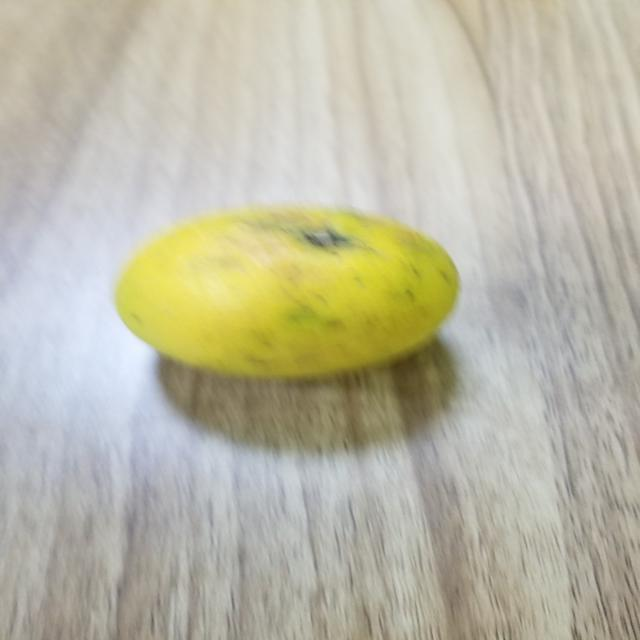Ripe orange: (101, 206, 490, 392)
